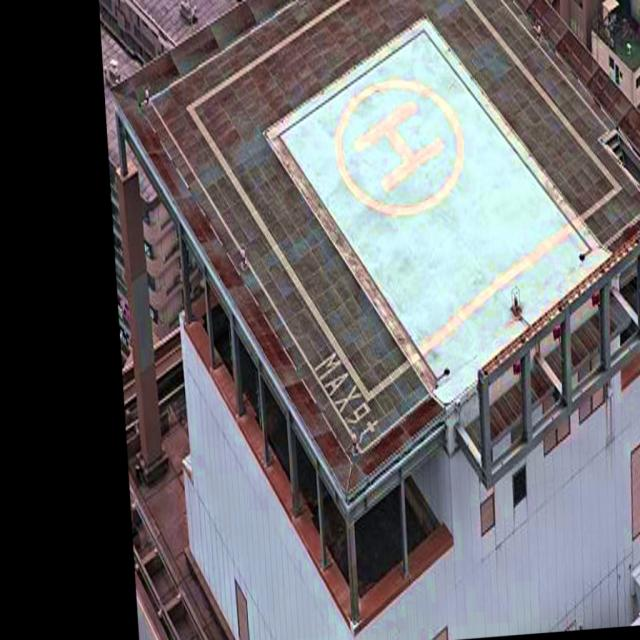helipad: (328, 73, 470, 221)
